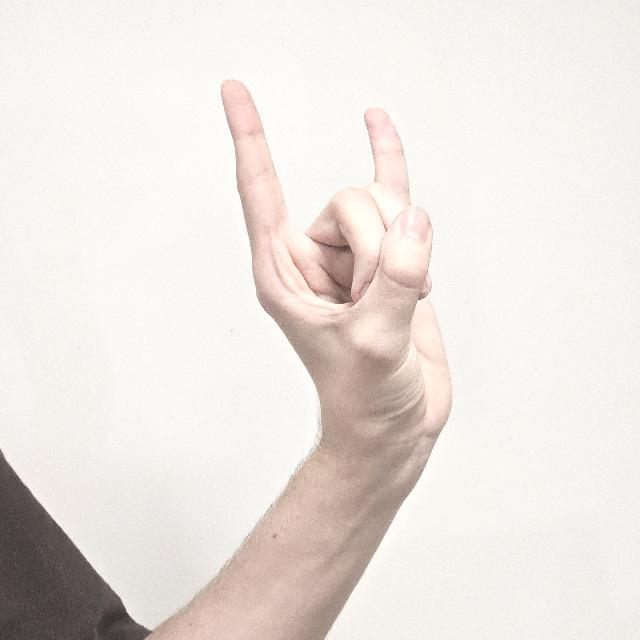L: (222, 75, 454, 447)
